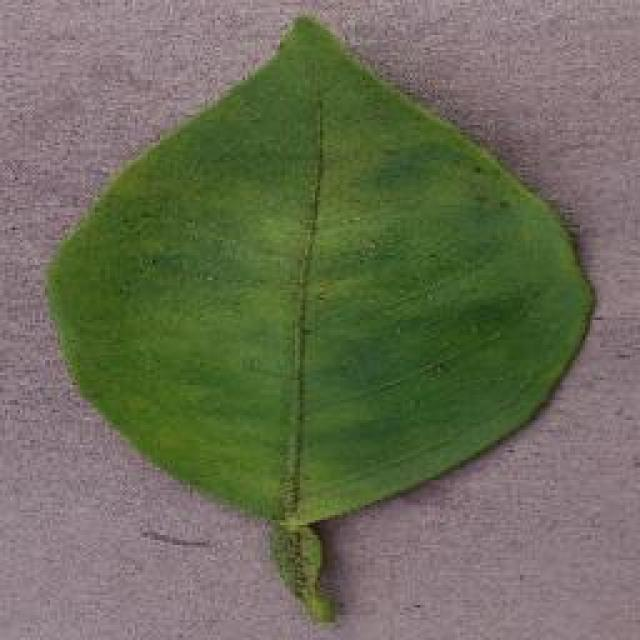Orange_Haunglongbing_Citrus_greening: (96, 92, 532, 478)
